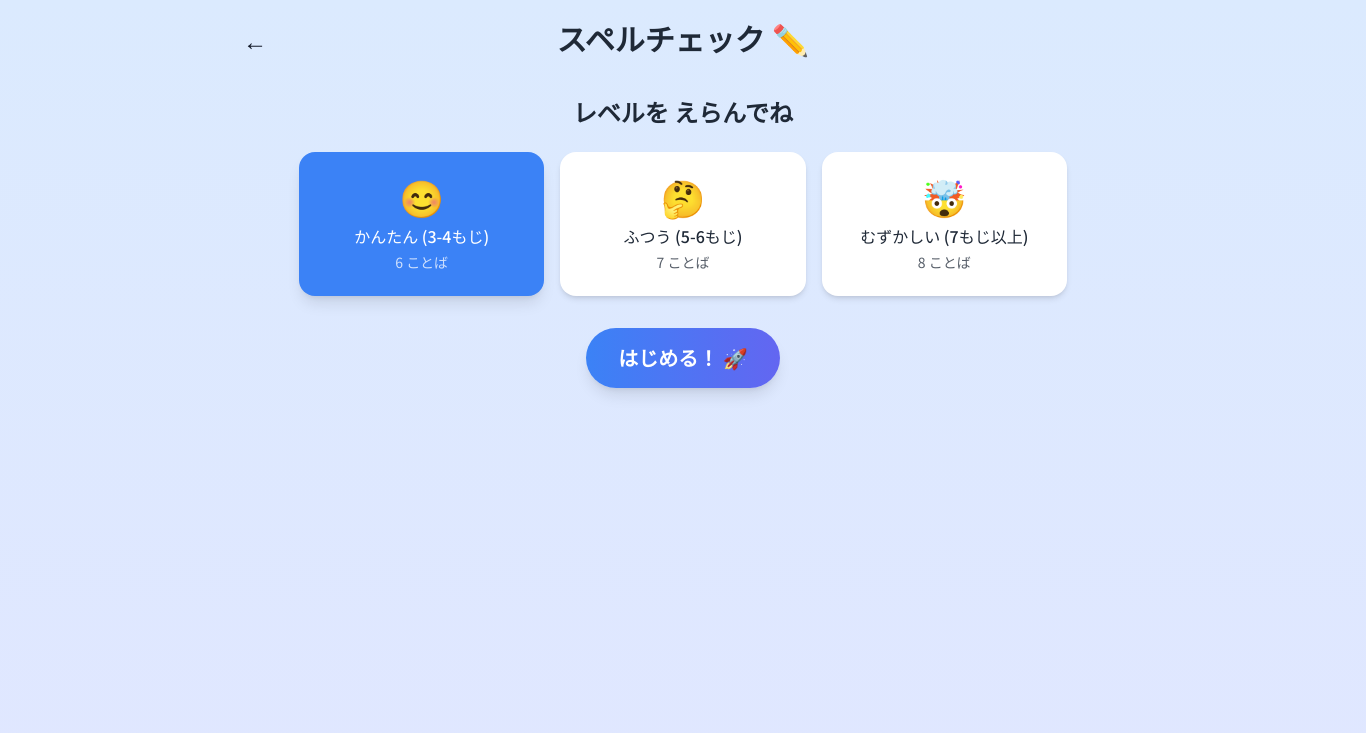
Scenario: SpellingGamePage › starts game when start button is clicked
Click the button "はじめる！ 🚀": (683, 358) [586,328,780,388]
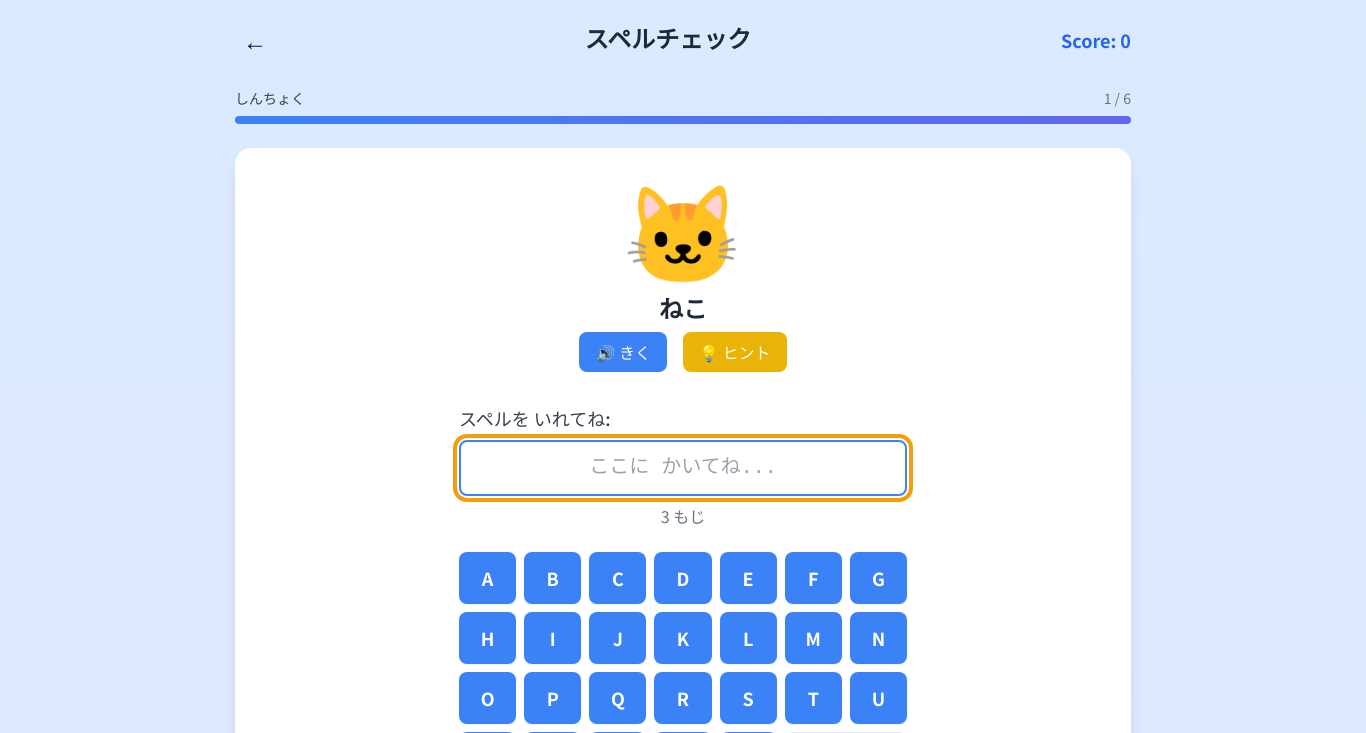
Expected: the heading "レベルを えらんでね" is gone
Expected: the text "スペルを いれてね:" is shown, [459,405,611,431]
